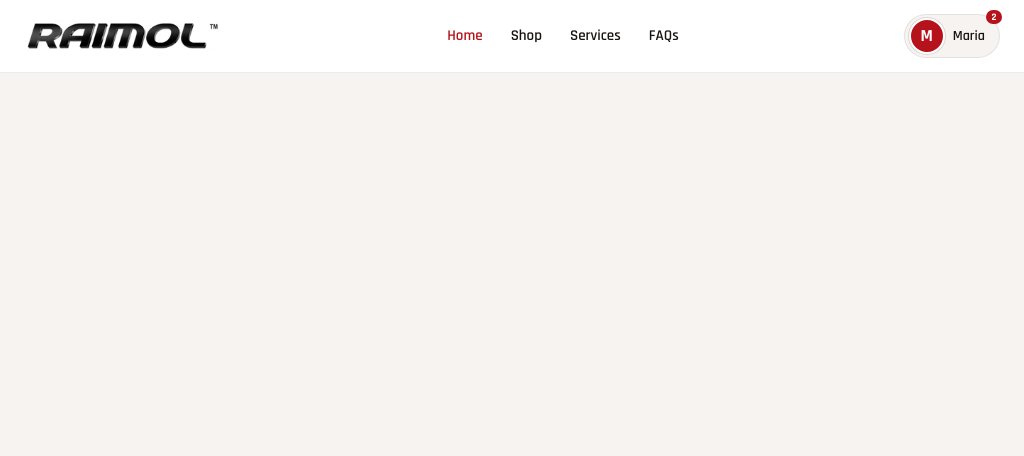
Scenario: header after login › logging out clears the token and the cart and returns to the public header
The image size is (1024, 456).
Click the button with aria-label "Account menu" at {"x": 952, "y": 36}, box [904,14,1000,58]
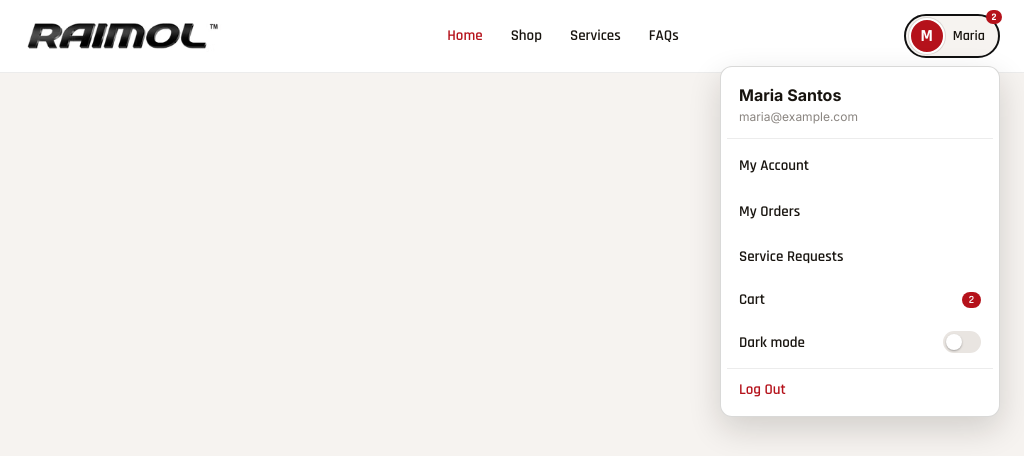
Click the menu item "Log Out" at {"x": 762, "y": 390}, box [727,368,993,410]
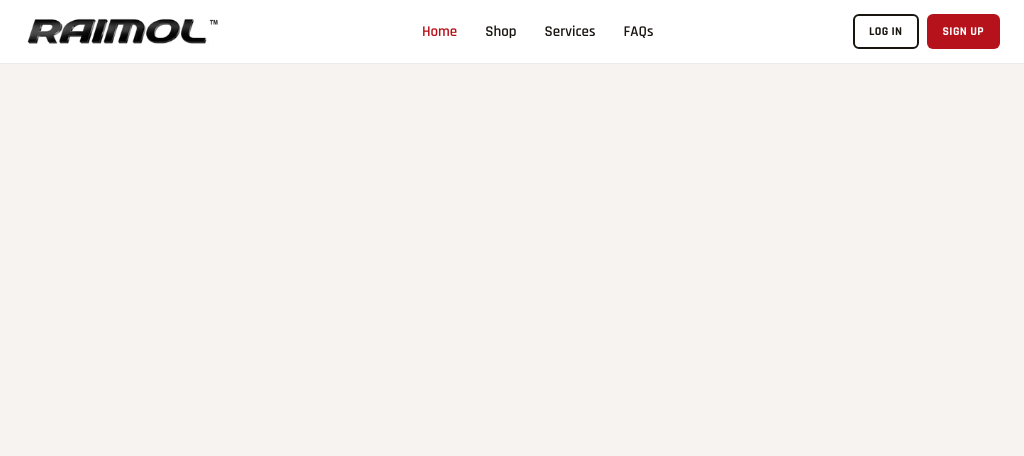
Now the button labelled "Account menu" is gone
